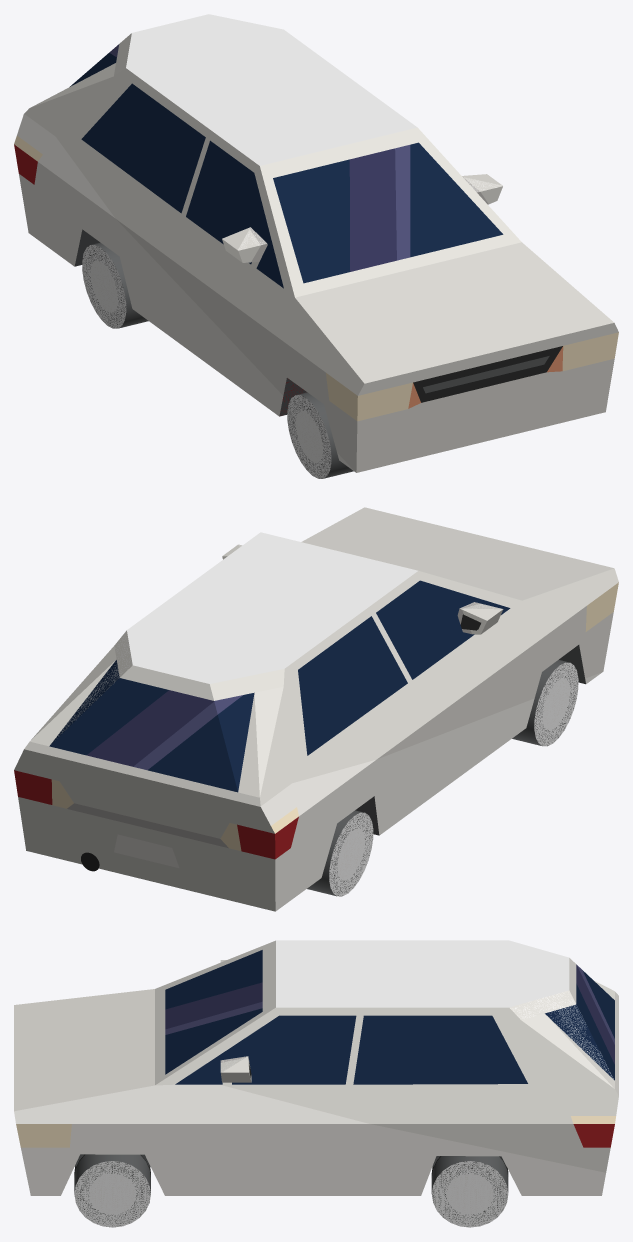
The model's file is car.dae.
3 renders of one model, top to bottom at view 1: azimuth 30°, elevation 25°; view 2: azimuth 150°, elevation 25°; view 3: azimuth 270°, elevation 25°, orthographic. The views are drawn at different scales.
Visible parts, largest first — view 1: group_1 (×13), Group_11 (×6), Component_1 (×2); view 2: group_1 (×14), Group_11 (×6), Component_1; view 3: group_1 (×14), Group_11 (×6), Component_1.
Part boxes in pixels (x1,y1,x2,y2): group_1 (×13): (17, 14, 618, 472); Group_11 (×6): (82, 242, 353, 478); Component_1 (×2): (222, 174, 502, 262); group_1 (×14): (14, 507, 618, 911); Group_11 (×6): (307, 659, 578, 896); Component_1: (460, 603, 503, 634); group_1 (×14): (14, 940, 618, 1195); Group_11 (×6): (74, 1154, 508, 1227); Component_1: (220, 1056, 251, 1082).
Bounding box in the file's own units: 71.5 × 162 × 59.64.
